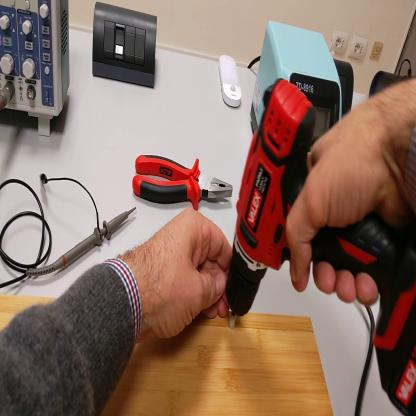electric screwdriver: (228, 79, 416, 350)
hand: (284, 89, 403, 306), (137, 208, 234, 343)
oscilloscope: (1, 1, 72, 138)
oscilloscope probe tip: (28, 203, 139, 281)
pliers: (133, 154, 233, 213)
socket: (369, 67, 410, 98), (337, 61, 357, 116)
welder station: (251, 18, 344, 150)
working area: (2, 294, 335, 414)
